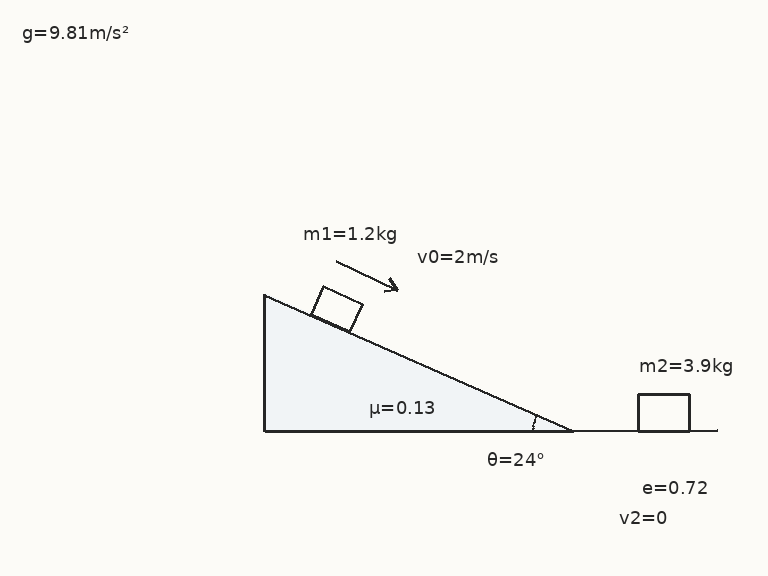block: (309, 284, 364, 333), (636, 392, 692, 433)
ramp: (263, 292, 575, 433)
